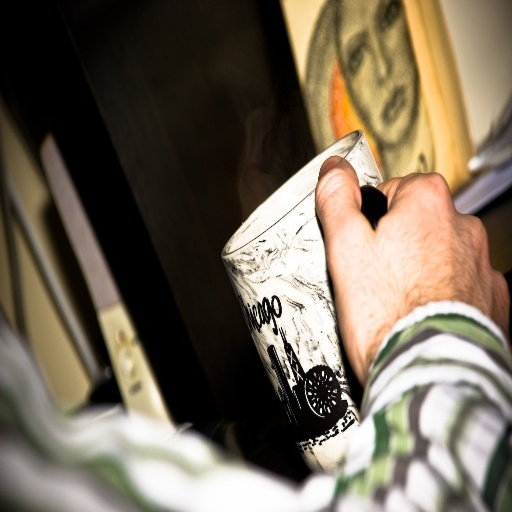hand: (311, 155, 511, 383)
